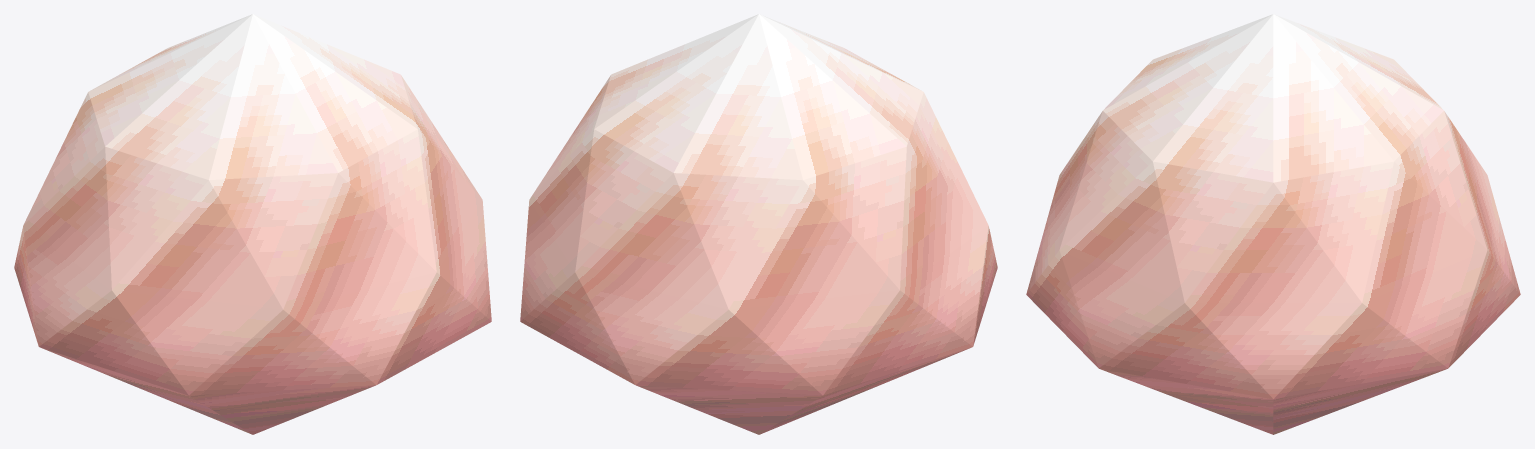
File: mini_stage4-cream.glb
3 renders of one model, left to right at view 1: azimuth 30°, elevation 25°; view 2: azimuth 150°, elevation 25°; view 3: azimuth 270°, elevation 25°, orthographic.
Visible parts, largest first — view 1: cream; view 2: cream; view 3: cream.
Part boxes in pixels (left/top/right/bottom): cream: left=14, top=14, right=491, bottom=434; cream: left=520, top=14, right=997, bottom=434; cream: left=1026, top=14, right=1520, bottom=434.
Size of the model in its own units: 1.25 by 1.17 by 1.25.
1 material, 1 textured.
